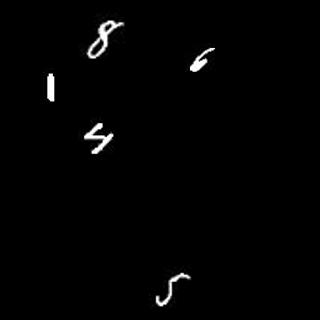eight: (86, 17, 123, 59)
five: (152, 270, 190, 307)
four: (85, 122, 113, 158)
one: (47, 69, 56, 106)
six: (189, 46, 215, 73)
